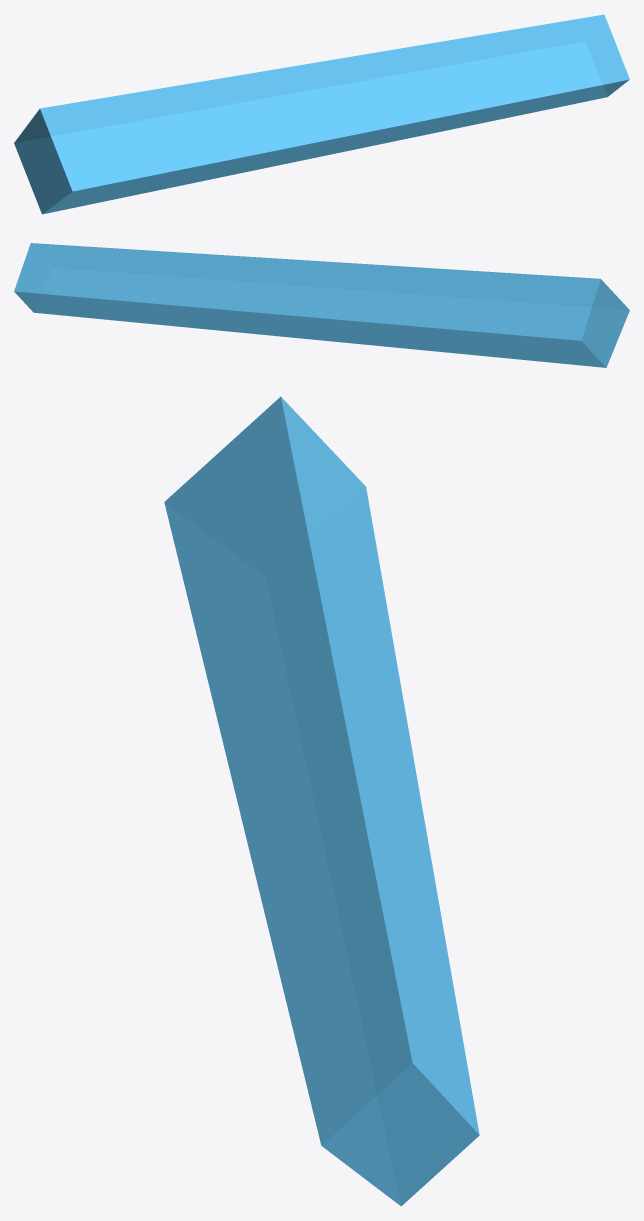
File: Event_420604493_HErechit_46.fbx
3 renders of one model, top to bottom at view 1: azimuth 30°, elevation 25°; view 2: azimuth 150°, elevation 25°; view 3: azimuth 270°, elevation 25°, orthographic. The views are drawn at different scales.
Visible parts, largest first — view 1: Model; view 2: Model; view 3: Model.
Part boxes in pixels (x1,y1,x2,y2): Model: [14, 14, 629, 214]; Model: [14, 243, 629, 367]; Model: [164, 396, 479, 1206].
Size of the model in its own units: 3.08 by 0.7796 by 0.7796.
